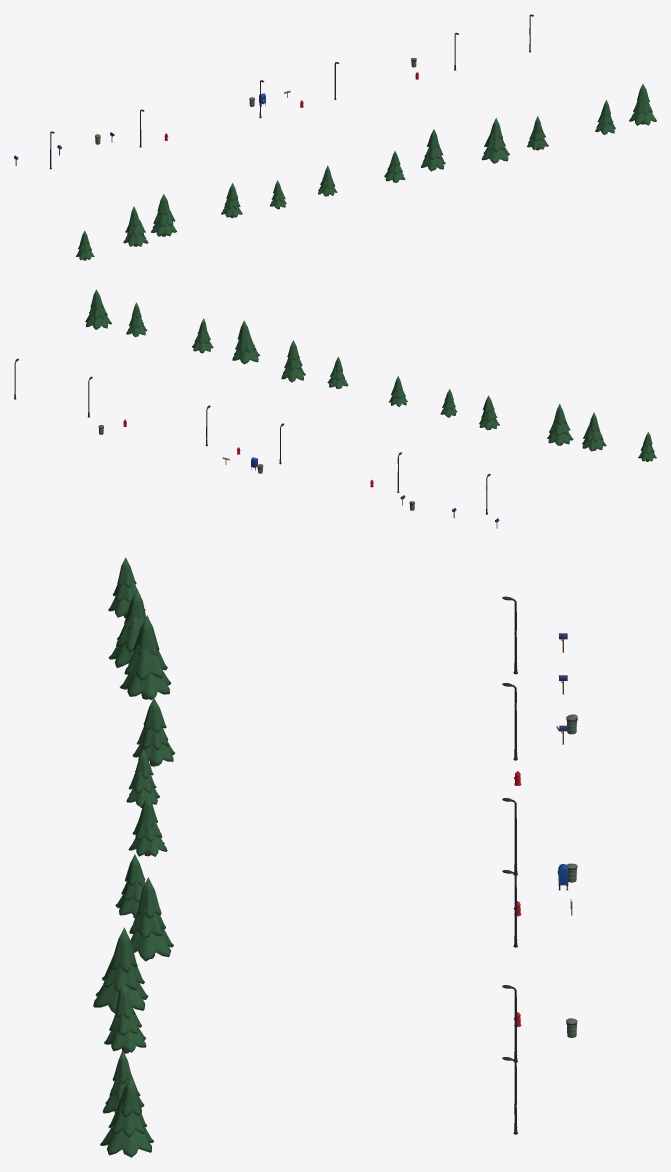
The model's file is furniture.glb.
The picture shows the model from 3 angles, top to bottom: view 1: azimuth 30°, elevation 25°; view 2: azimuth 150°, elevation 25°; view 3: azimuth 270°, elevation 25°; orthographic projection. The views are drawn at different scales.
Parts seen in each view (by area): view 1: Pines, Lamps; view 2: Pines, Lamps; view 3: Pines, Lamps.
Boxes of the visible parts, x1=… form: Pines: x1=76, y1=84, x2=656, y2=260; Lamps: x1=49, y1=14, x2=533, y2=169; Pines: x1=85, y1=289, x2=656, y2=461; Lamps: x1=14, y1=358, x2=490, y2=514; Pines: x1=93, y1=557, x2=174, y2=1157; Lamps: x1=502, y1=596, x2=517, y2=1134.
Size of the model in its own units: 77.1 by 5.48 by 28.47.
